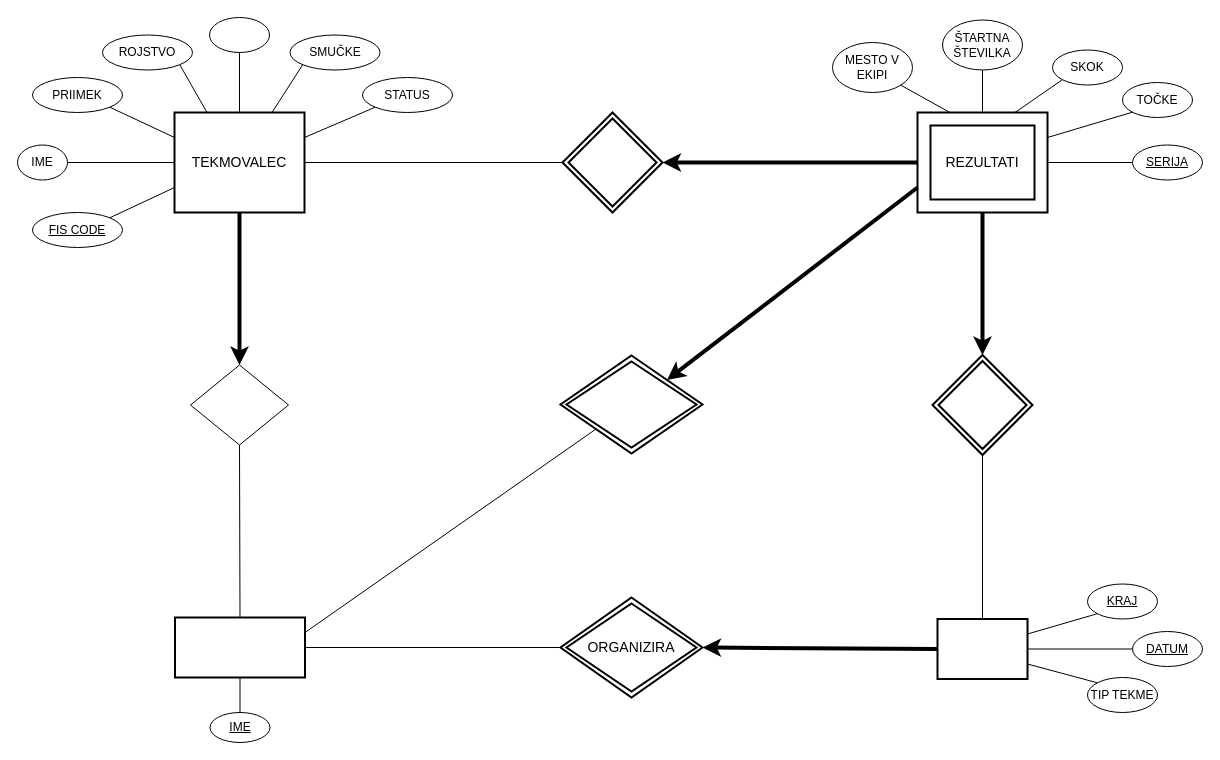
The diagram is 1220 pixels wide and 760 high, and some of its shapes have lost their labels. Each missing label, with the box of its shape:
DOSEŽEN ZA: (559, 354, 703, 454)
DRŽAVA: (174, 616, 306, 678)
KATERA: (931, 354, 1033, 456)
KDO: (561, 111, 663, 213)
KLUB: (208, 16, 270, 52)
TEKMA: (936, 618, 1028, 680)
TEKMUJE ZA: (190, 364, 288, 445)
